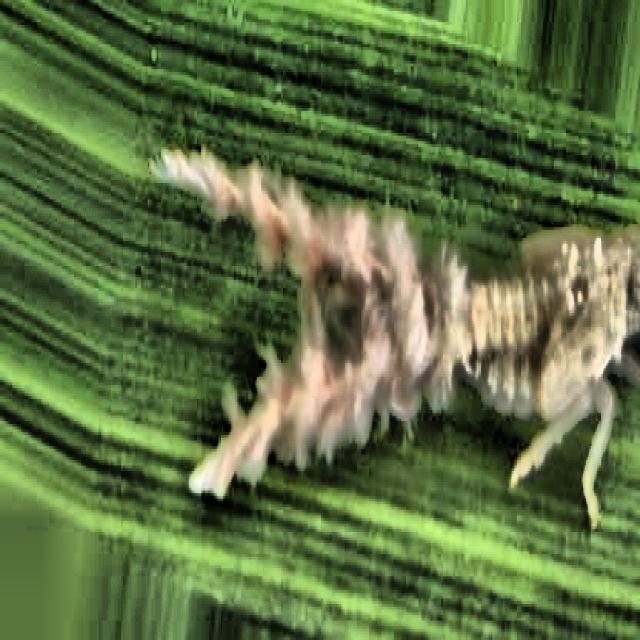Pyrilla-perpusilla: (147, 91, 640, 573)
